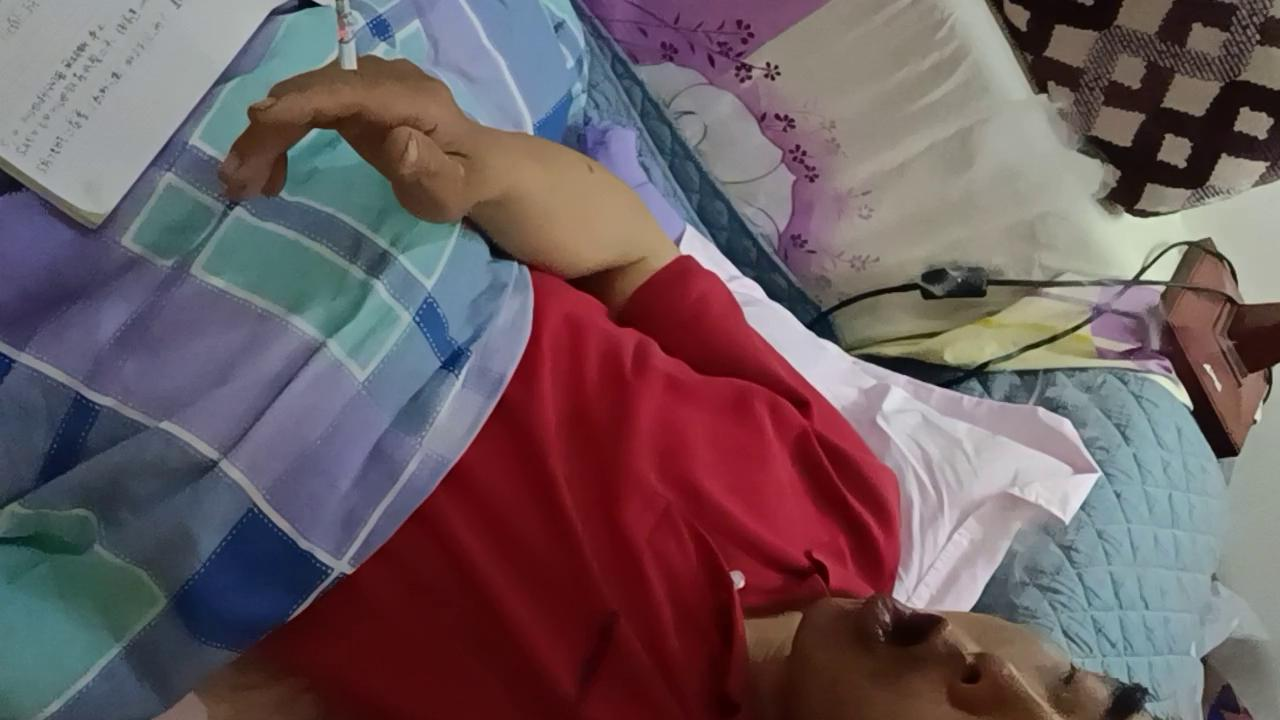smoke: (334, 0, 361, 133)
